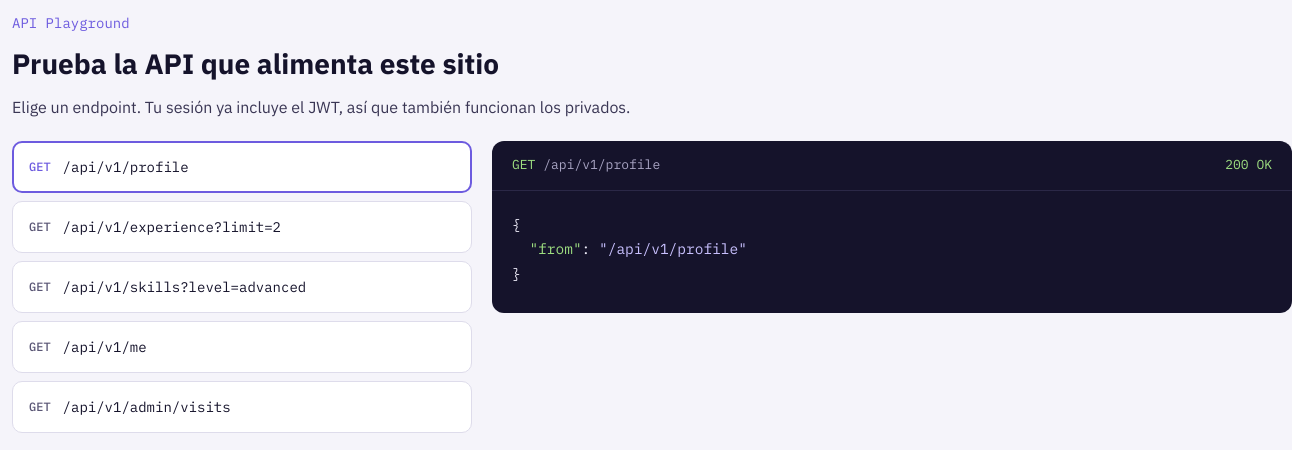
Test: ApiPlayground › switches the selection and shows the new response
Expected: the element showing "GET /api/v1/profile 200 OK { \"from\": \"/api/v1/profile\" }" is shown, [492,141,1291,312]
Click the button "GET /api/v1/skills?level=advanced": (242, 287) [12,261,472,313]
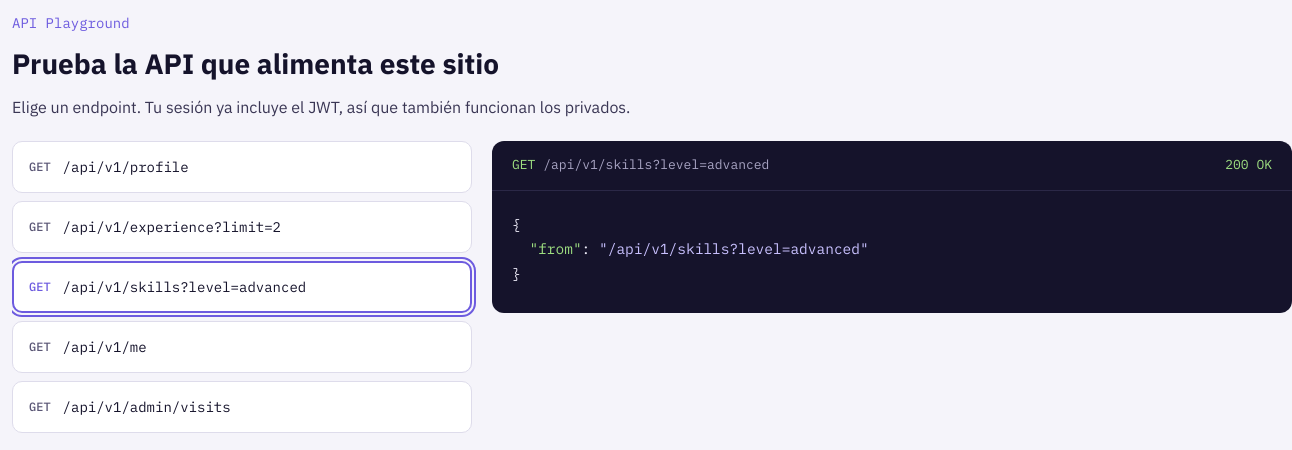
Result: the element named "GET /api/v1/skills?level=advanced 200 OK" shows "\"from\": \"/api/v1/skills?level=advanced\"" at [492,141,1291,312]
